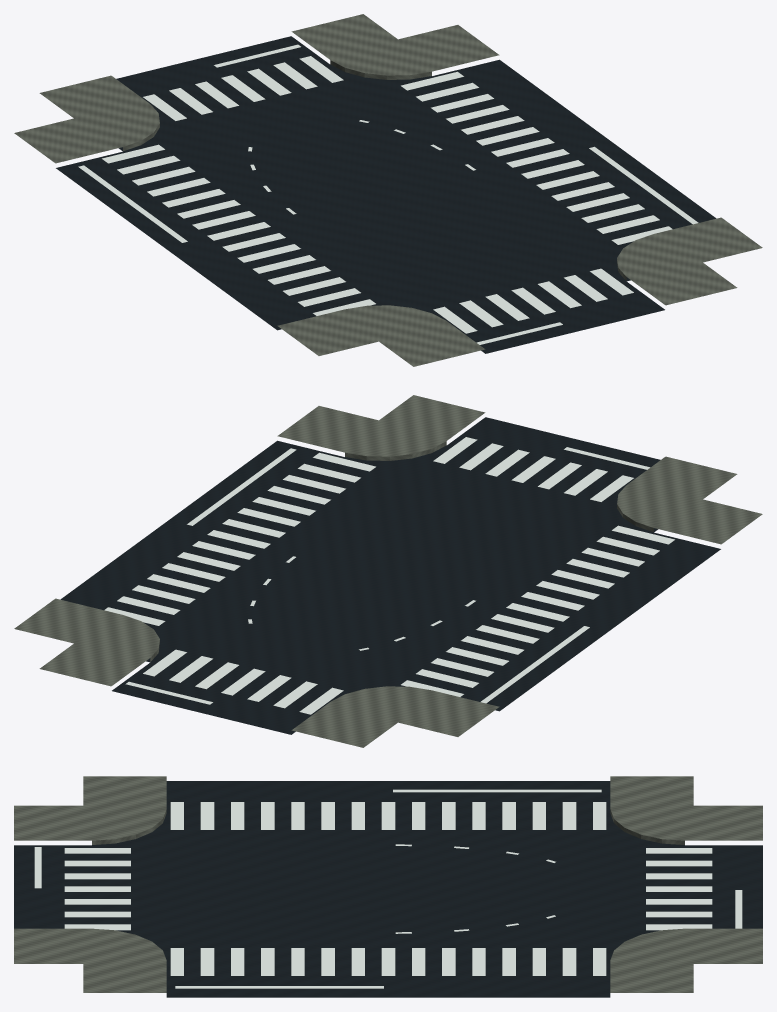
The model's file is junc_cross_4x2_LOD1.glb.
3 renders of one model, top to bottom at view 1: azimuth 30°, elevation 25°; view 2: azimuth 150°, elevation 25°; view 3: azimuth 270°, elevation 25°, orthographic.
Visible parts, largest first — view 1: junc_cross_4x2__surface.001, junc_cross_4x2__rounded_corner_curb.001, junc_cross_4x2__crosswalk_paint.001, junc_cross_4x2__stop_line_paint.001; view 2: junc_cross_4x2__surface.001, junc_cross_4x2__rounded_corner_curb.001, junc_cross_4x2__crosswalk_paint.001, junc_cross_4x2__stop_line_paint.001; view 3: junc_cross_4x2__surface.001, junc_cross_4x2__rounded_corner_curb.001, junc_cross_4x2__crosswalk_paint.001, junc_cross_4x2__stop_line_paint.001.
Part boxes in pixels (box(x1,y1,x2,y2)): junc_cross_4x2__surface.001: box(56, 36, 716, 353); junc_cross_4x2__rounded_corner_curb.001: box(14, 14, 762, 366); junc_cross_4x2__crosswalk_paint.001: box(102, 56, 672, 333); junc_cross_4x2__stop_line_paint.001: box(78, 44, 698, 344); junc_cross_4x2__surface.001: box(60, 417, 720, 734); junc_cross_4x2__rounded_corner_curb.001: box(14, 395, 762, 747); junc_cross_4x2__crosswalk_paint.001: box(104, 437, 674, 714); junc_cross_4x2__stop_line_paint.001: box(125, 447, 650, 704); junc_cross_4x2__surface.001: box(14, 781, 762, 997); junc_cross_4x2__rounded_corner_curb.001: box(14, 776, 762, 992); junc_cross_4x2__crosswalk_paint.001: box(64, 802, 712, 975); junc_cross_4x2__stop_line_paint.001: box(34, 789, 742, 988).
Bounding box in the file's own units: 14.8 × 0.145 × 21.6.
Materials: 4 (3 with a texture image).
